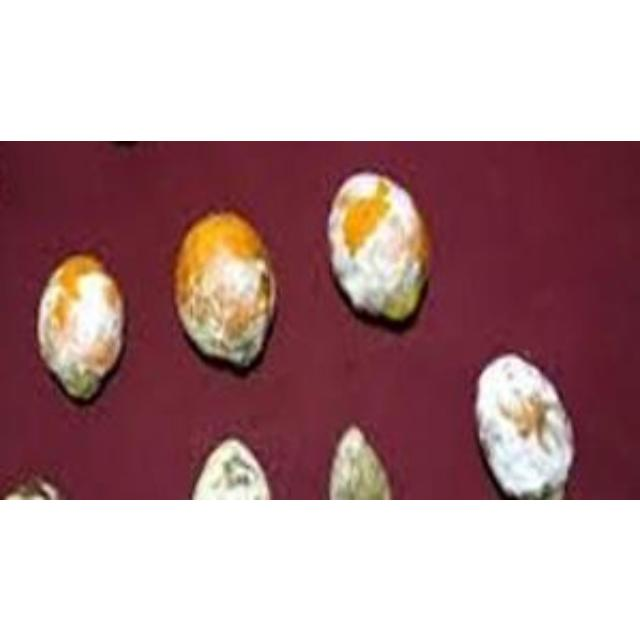damaged: (324, 164, 436, 324), (172, 206, 280, 368), (474, 352, 576, 496), (34, 248, 128, 402), (190, 436, 272, 499), (328, 425, 394, 499), (1, 473, 61, 499)
